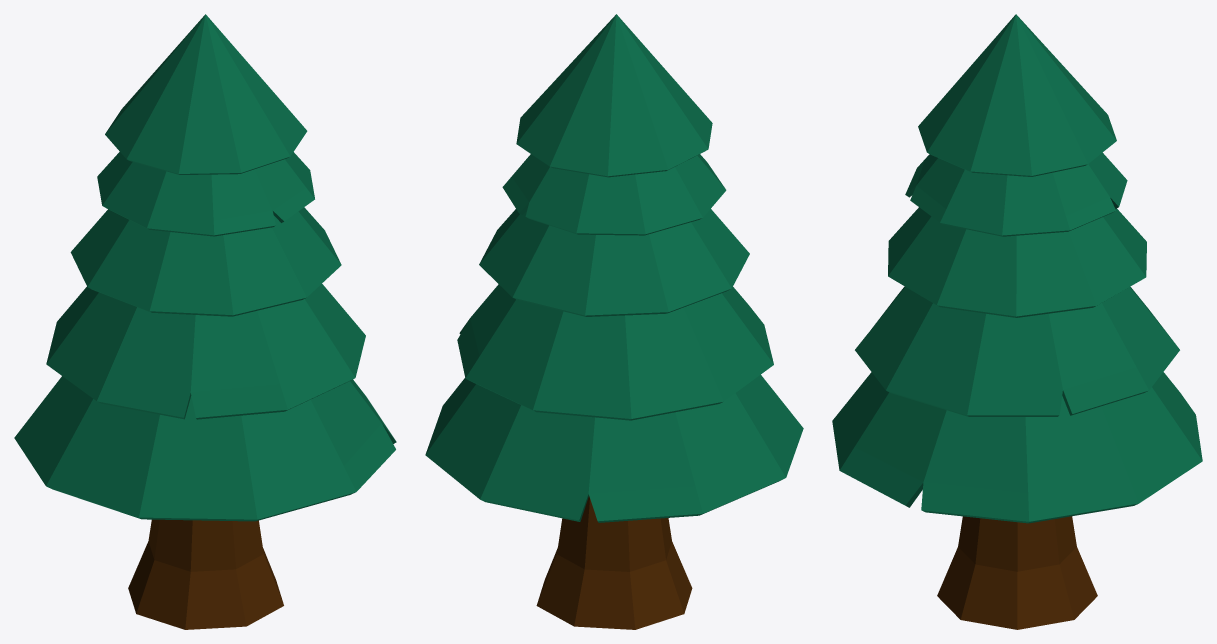
Rendered from three2.glb.
The picture shows the model from 3 angles, left to right: view 1: azimuth 30°, elevation 25°; view 2: azimuth 150°, elevation 25°; view 3: azimuth 270°, elevation 25°; orthographic projection.
Visible parts, largest first — view 1: tree2.006; view 2: tree2.006; view 3: tree2.006.
Boxes of the visible parts, x1=… form: tree2.006: x1=14, y1=14, x2=396, y2=629; tree2.006: x1=425, y1=14, x2=803, y2=629; tree2.006: x1=832, y1=14, x2=1202, y2=629.
Bounding box in the file's own units: 1.42 × 2.38 × 1.38.
